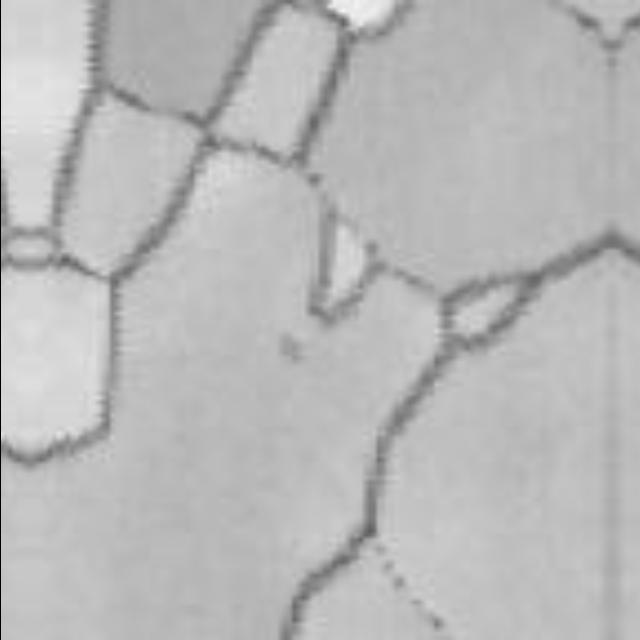good_void: (279, 329, 306, 371)
